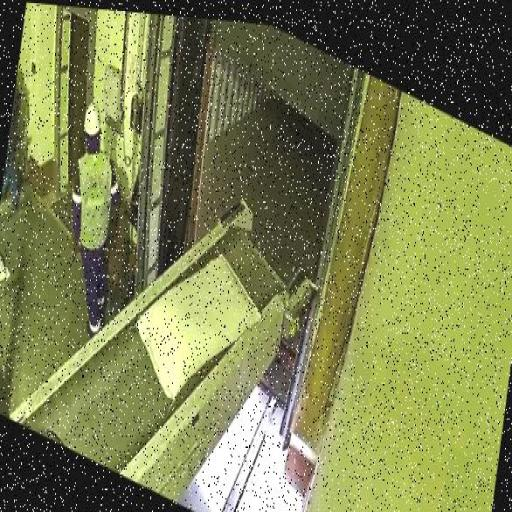c-belt-sack-count: (138, 256, 260, 398)
